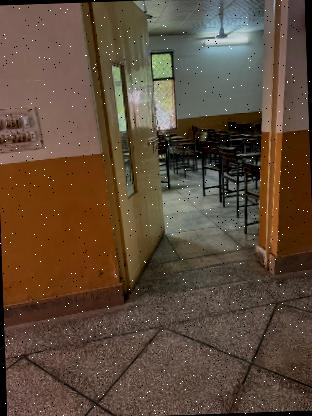chair: (217, 142, 242, 220)
door: (83, 0, 175, 302)
